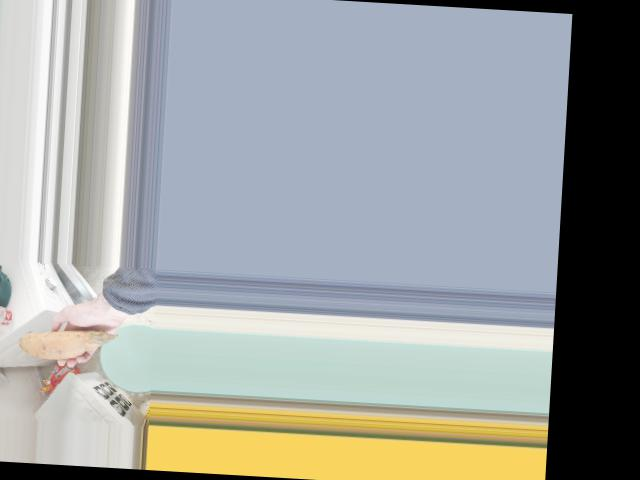sweet_potato: (21, 333, 128, 367)
